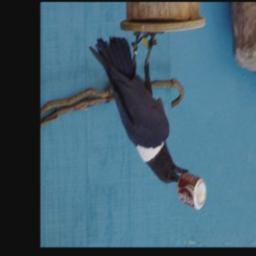Crow: (89, 30, 190, 186)
